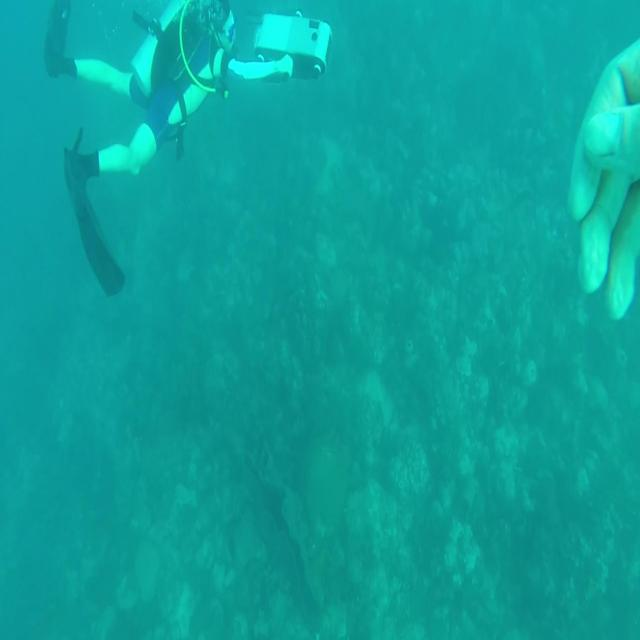human: (43, 1, 330, 296)
